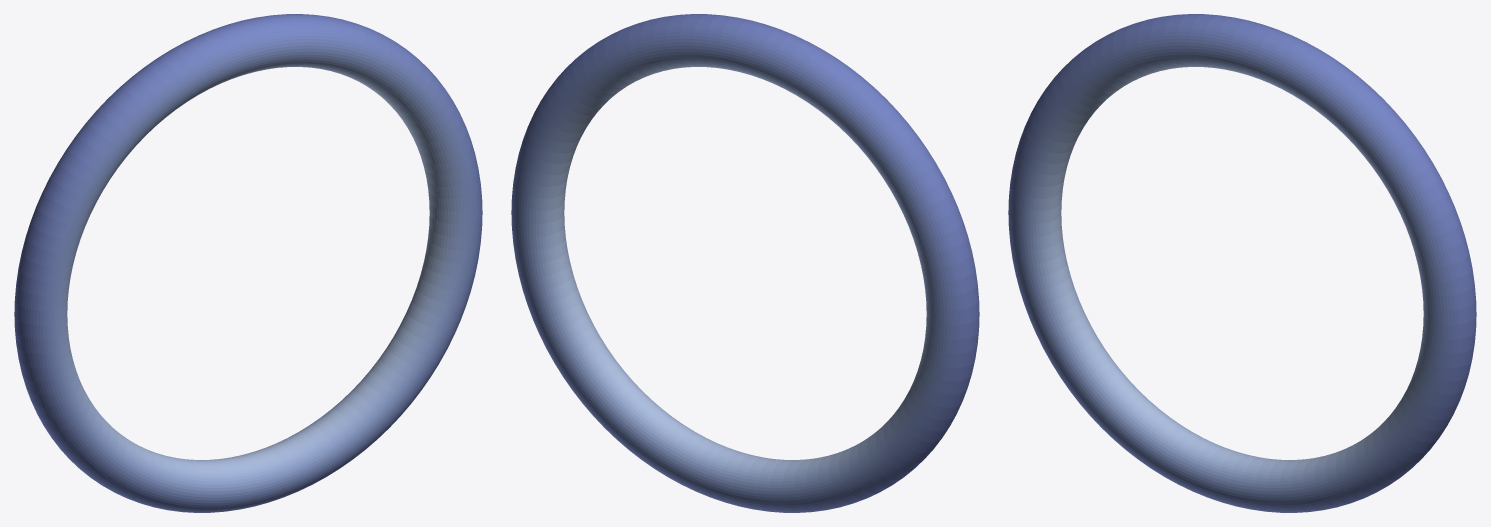
The picture shows the model from 3 angles, left to right: view 1: azimuth 30°, elevation 25°; view 2: azimuth 150°, elevation 25°; view 3: azimuth 330°, elevation 25°; orthographic projection.
Visible parts, largest first — view 1: world; view 2: world; view 3: world.
Part boxes in pixels (box(x1,y1,x2,y2)): world: box(14, 14, 482, 512); world: box(511, 14, 979, 512); world: box(1008, 14, 1476, 512).
Bounding box in the file's own units: 28.13 × 28.13 × 2.79.
